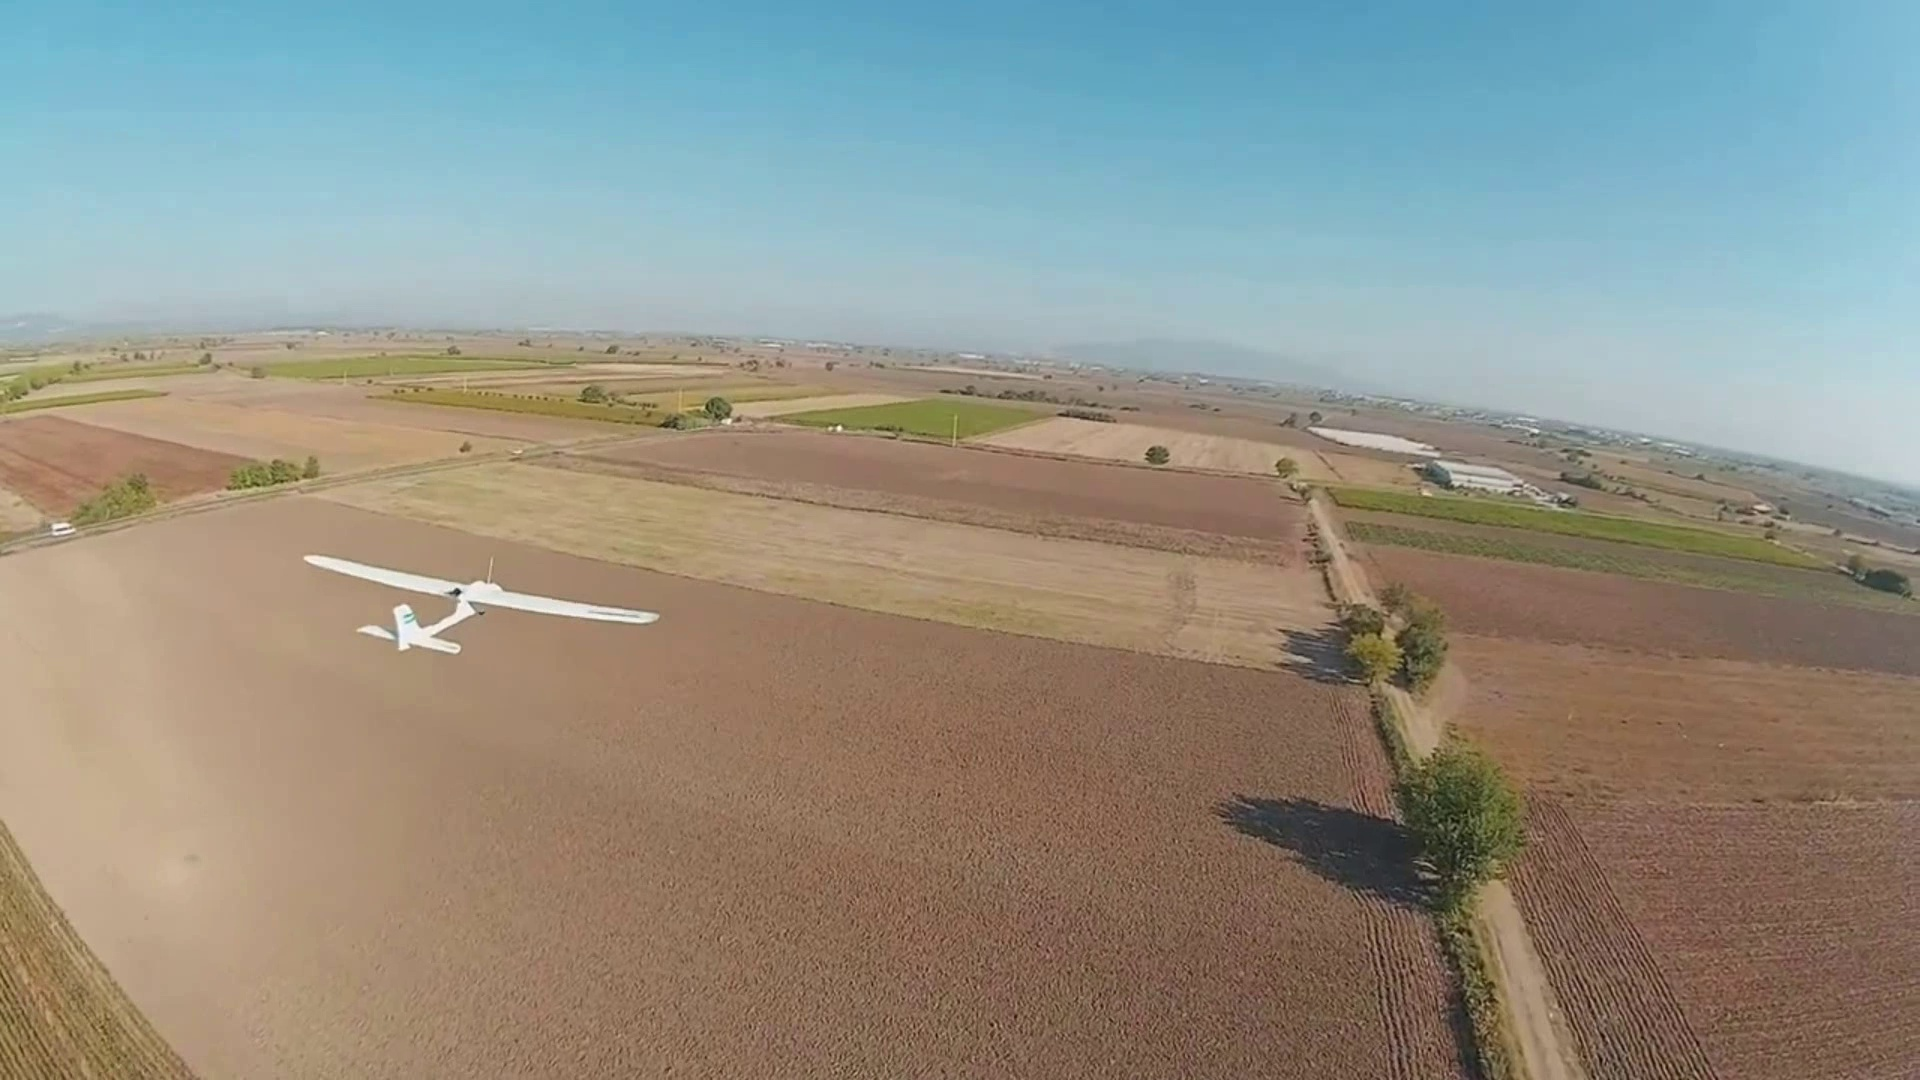airplane: (301, 548, 660, 654)
